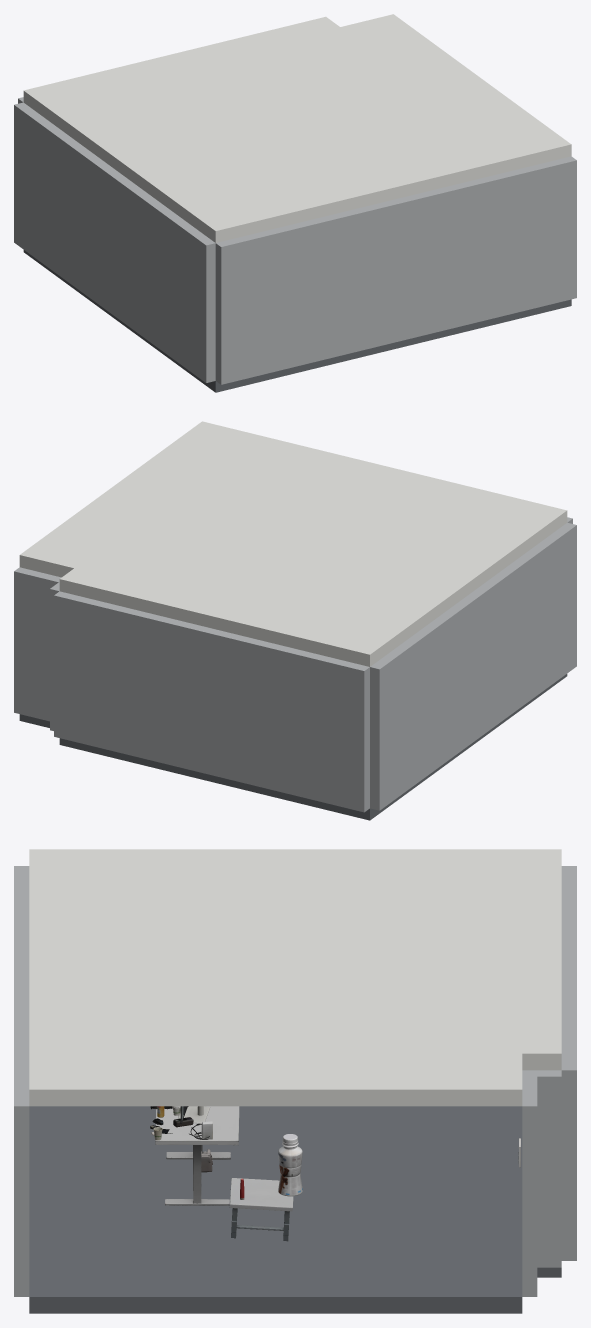
The picture shows the model from 3 angles, top to bottom: view 1: azimuth 30°, elevation 25°; view 2: azimuth 150°, elevation 25°; view 3: azimuth 270°, elevation 25°; orthographic projection. The views are drawn at different scales.
Visible parts, largest first — view 1: Ceiling, Wall_01, Wall_05, Floor; view 2: Ceiling, Wall_04, Wall_05, Wall_02, Floor, Wall_03; view 3: Ceiling, Floor, Wall_01, Wall_04, Wall_03, Wall_02, world.012, world.010, world.003.
Boxes of the visible parts, x1,y1,x2,y2 form: Ceiling: (23, 14, 571, 242); Wall_01: (215, 156, 576, 384); Wall_05: (14, 102, 215, 382); Floor: (23, 250, 571, 392); Ceiling: (19, 421, 567, 666); Wall_04: (54, 591, 369, 812); Wall_05: (370, 522, 576, 810); Wall_02: (14, 567, 61, 721); Floor: (19, 674, 567, 820); Wall_03: (50, 582, 59, 730); Ceiling: (29, 849, 561, 1106); Floor: (29, 1106, 561, 1313); Wall_01: (14, 866, 29, 1296); Wall_04: (561, 866, 576, 1260); Wall_03: (522, 1070, 561, 1267); Wall_02: (522, 1070, 537, 1296); world.012: (155, 1106, 239, 1205); world.010: (229, 1178, 293, 1241); world.003: (278, 1134, 302, 1196).
Size of the model in its own units: 9.6 by 4.06 by 9.25.
25 materials, 22 textured.
